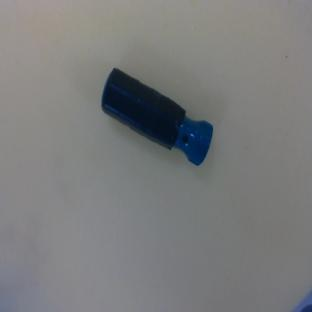part_2_bad: (91, 66, 221, 168)
